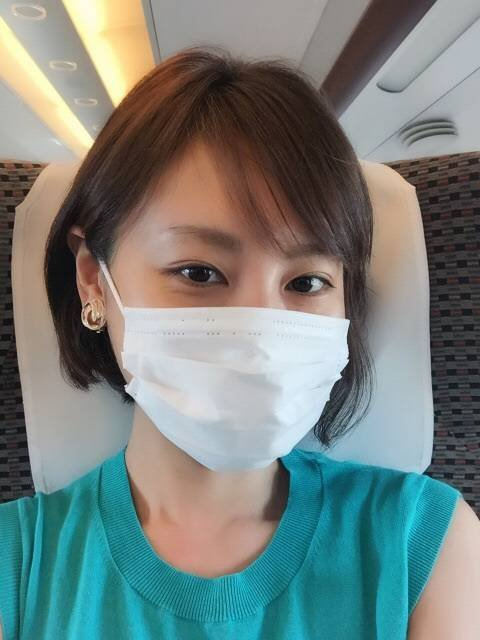mask: (110, 303, 350, 473)
